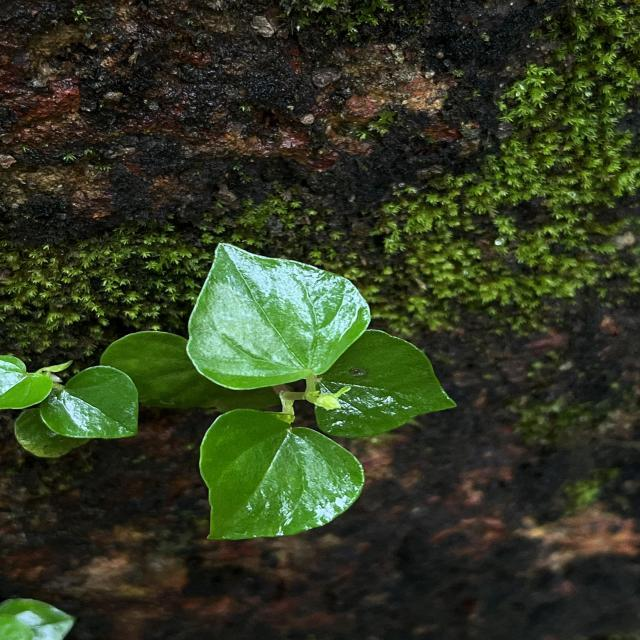Peperomia pellucida: (184, 242, 373, 392), (196, 406, 366, 542)
